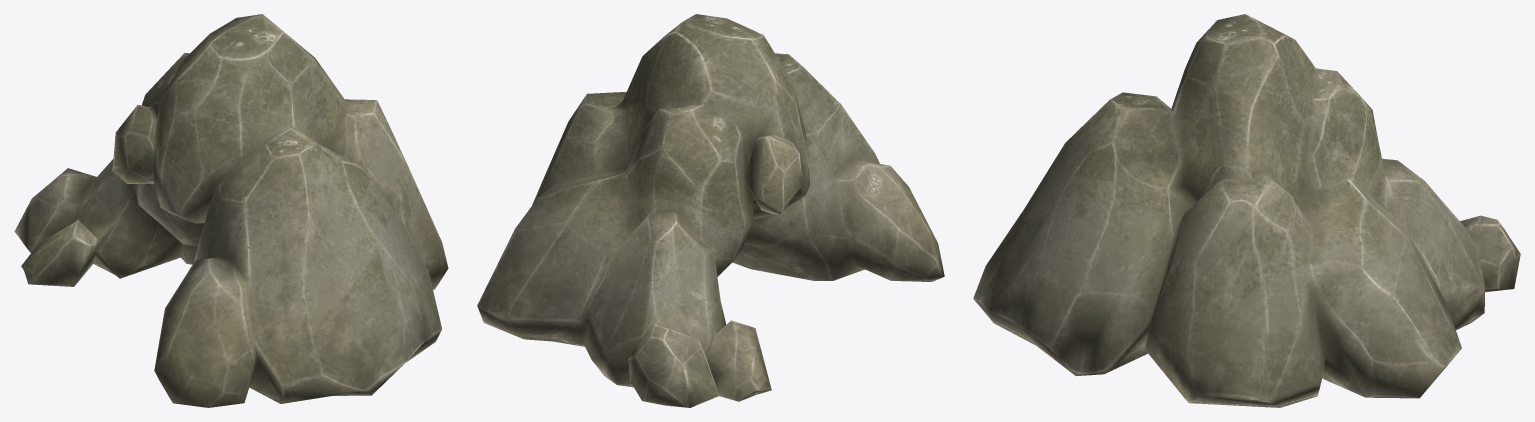
The model's file is cave.fbx.
The picture shows the model from 3 angles, left to right: view 1: azimuth 30°, elevation 25°; view 2: azimuth 150°, elevation 25°; view 3: azimuth 270°, elevation 25°; orthographic projection. The views are drawn at different scales.
Visible parts, largest first — view 1: g Object001; view 2: g Object001; view 3: g Object001.
Boxes of the visible parts, left/top/right/bottom form: g Object001: left=14, top=14, right=448, bottom=407; g Object001: left=477, top=14, right=944, bottom=407; g Object001: left=973, top=14, right=1520, bottom=407.
Bounding box in the file's own units: 1489 × 1142 × 1909.
